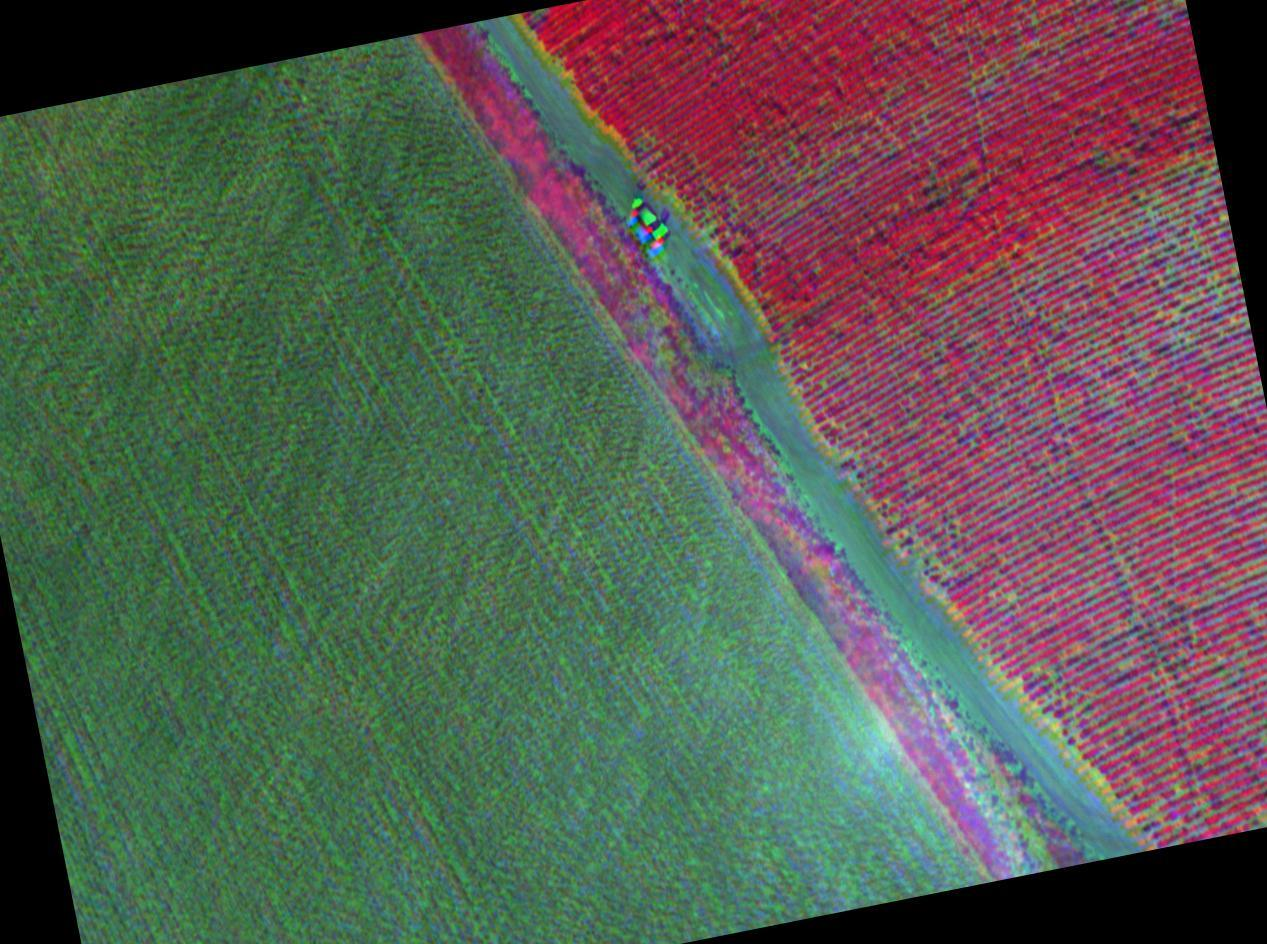dc: (1156, 261, 1229, 325), (1149, 170, 1209, 223), (902, 523, 960, 577), (1028, 670, 1087, 720), (835, 442, 884, 483)
